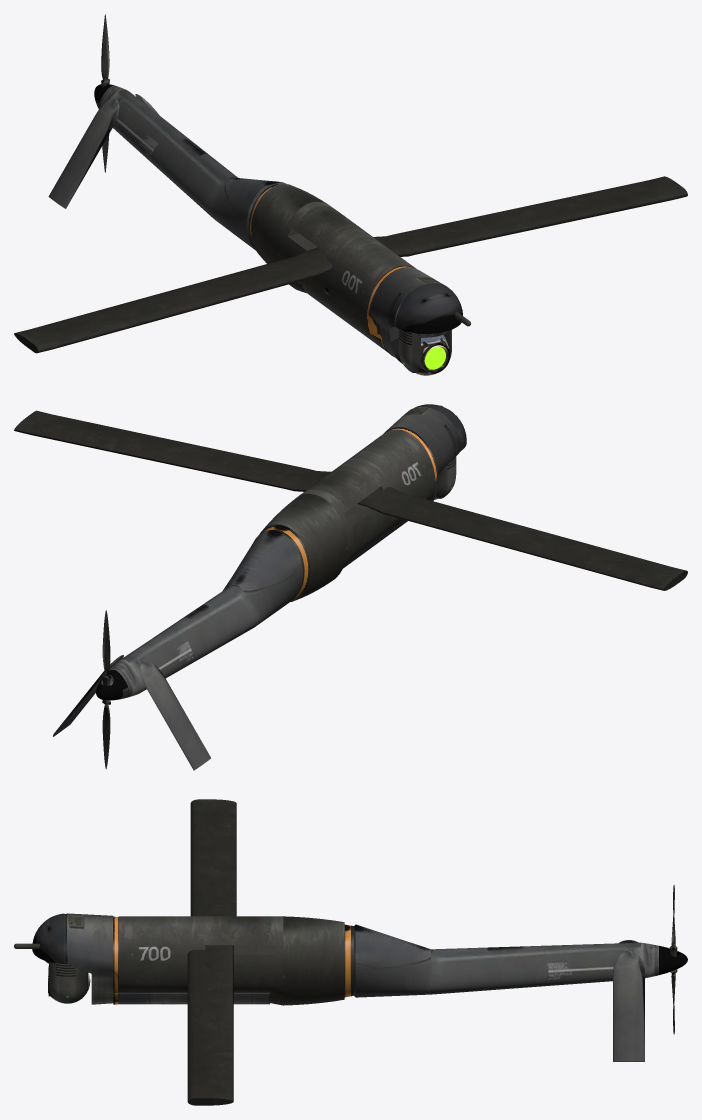
Rendered from altius-700.glb.
3 views of the same model, one above another, from view 1: azimuth 30°, elevation 25°; view 2: azimuth 150°, elevation 25°; view 3: azimuth 270°, elevation 25° (orthographic). The views are drawn at different scales.
Visible parts, largest first — view 1: Mesh003_Material #25_0, Cylinder002_Material #25_0, Cylinder004_Material #25_0, C-Ext002, Capsule002, Sphere006; view 2: Mesh003_Material #25_0, Cylinder002_Material #25_0, Cylinder004_Material #25_0, C-Ext002, C-Ext001; view 3: Mesh003_Material #25_0, Cylinder004_Material #25_0, Cylinder002_Material #25_0, C-Ext001, Capsule002.
Part boxes in pixels (x1,y1,x2,y2): Mesh003_Material #25_0: [96, 84, 470, 363]; Cylinder002_Material #25_0: [14, 247, 331, 353]; Cylinder004_Material #25_0: [373, 176, 687, 256]; C-Ext002: [48, 99, 119, 208]; Capsule002: [398, 328, 451, 372]; Sphere006: [416, 335, 448, 375]; Mesh003_Material #25_0: [99, 404, 466, 699]; Cylinder002_Material #25_0: [357, 487, 687, 590]; Cylinder004_Material #25_0: [14, 410, 331, 491]; C-Ext002: [140, 660, 210, 770]; C-Ext001: [53, 655, 123, 736]; Mesh003_Material #25_0: [14, 913, 666, 1005]; Cylinder004_Material #25_0: [187, 945, 233, 1105]; Cylinder002_Material #25_0: [190, 799, 236, 916]; C-Ext001: [613, 950, 644, 1061]; Capsule002: [45, 961, 88, 1003].
Bounding box in the file's own units: 1104 × 258 × 1053.
Materials: 3 (1 with a texture image).
